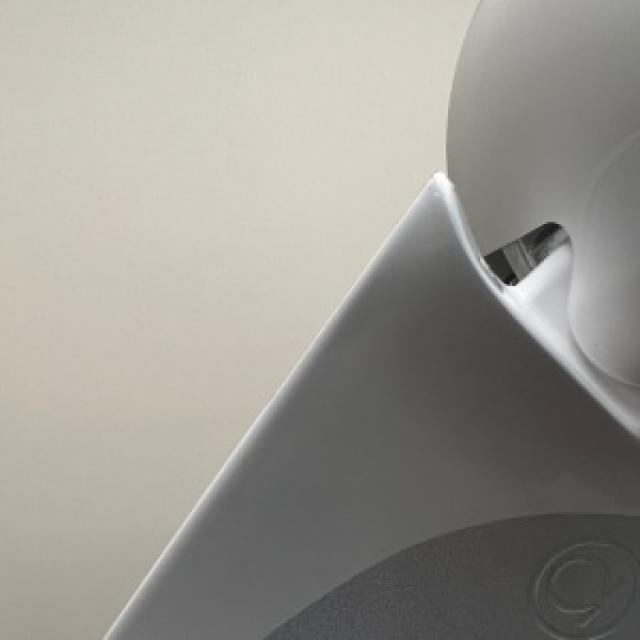healthy: (107, 0, 638, 638)
